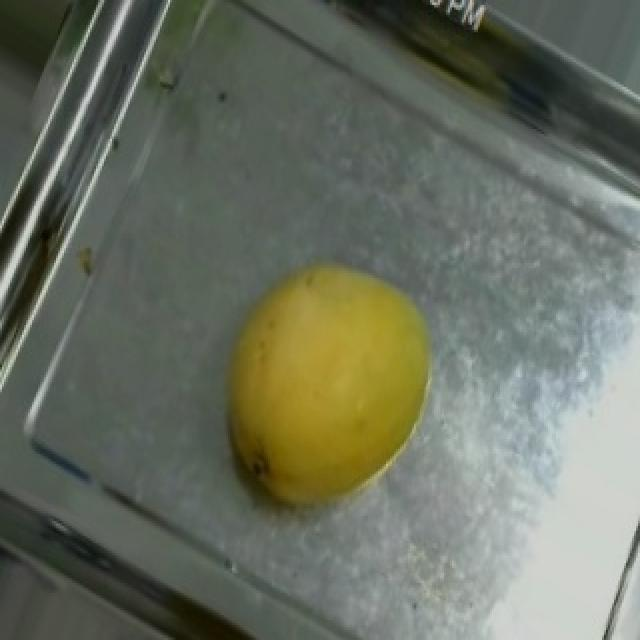fruit: (162, 201, 496, 553)
